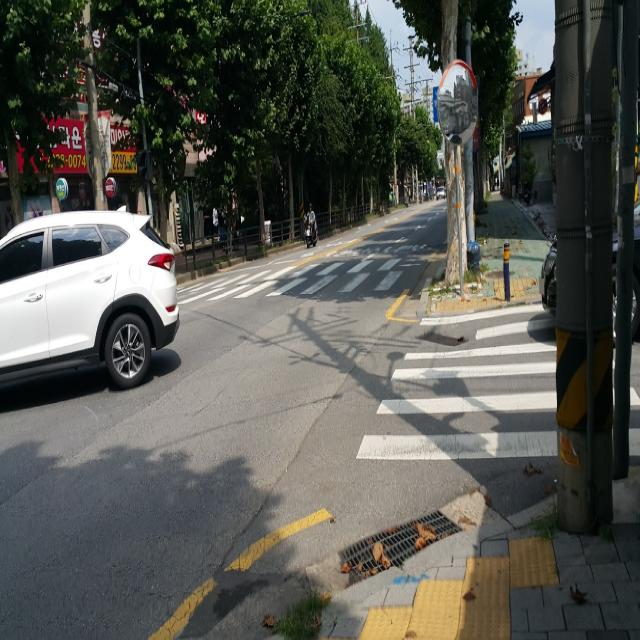횡단보도: (353, 299, 640, 463), (178, 257, 424, 298)
